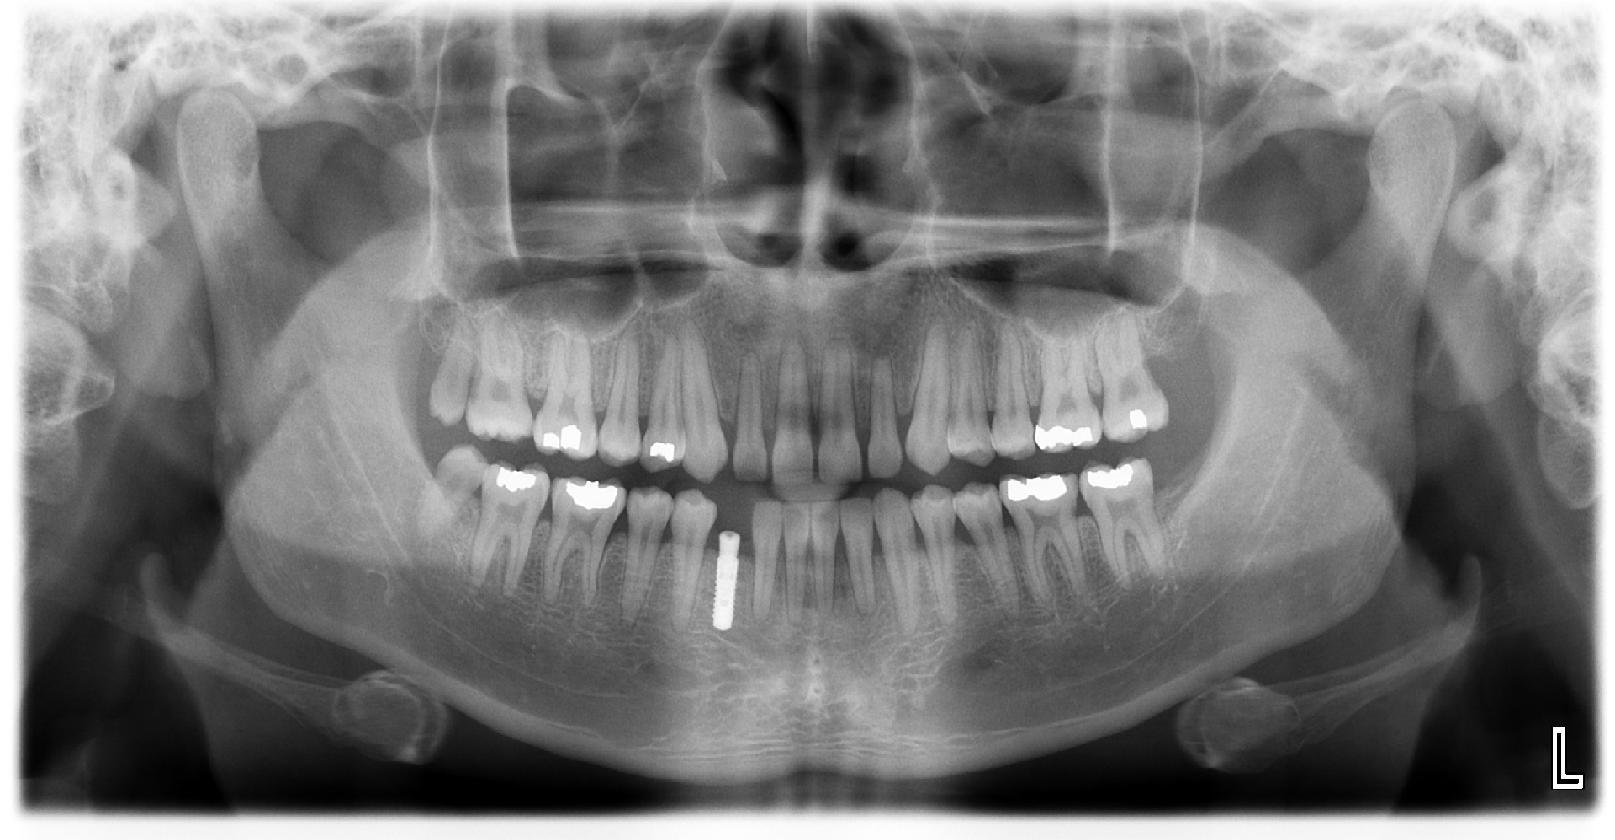Erupted: (419, 447, 495, 556)
